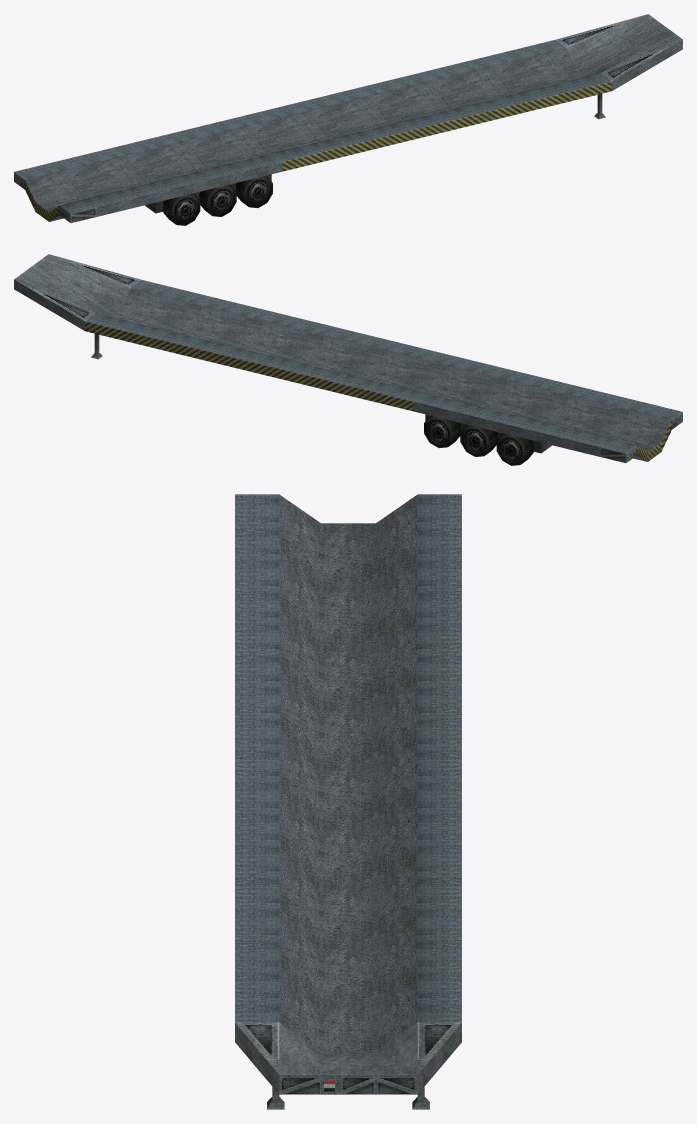
File: M11_Missile_Trailer.glb
3 renders of one model, top to bottom at view 1: azimuth 30°, elevation 25°; view 2: azimuth 150°, elevation 25°; view 3: azimuth 270°, elevation 25°, orthographic. The views are drawn at different scales.
Visible parts, largest first — view 1: M11_MISSILE_TRAILER; view 2: M11_MISSILE_TRAILER; view 3: M11_MISSILE_TRAILER.
Boxes of the visible parts, x1=… form: M11_MISSILE_TRAILER: x1=14, y1=14, x2=682, y2=225; M11_MISSILE_TRAILER: x1=14, y1=254, x2=682, y2=465; M11_MISSILE_TRAILER: x1=235, y1=494, x2=461, y2=1109.
Size of the model in its own units: 21.11 by 1.86 by 3.33.
1 material, 1 textured.
